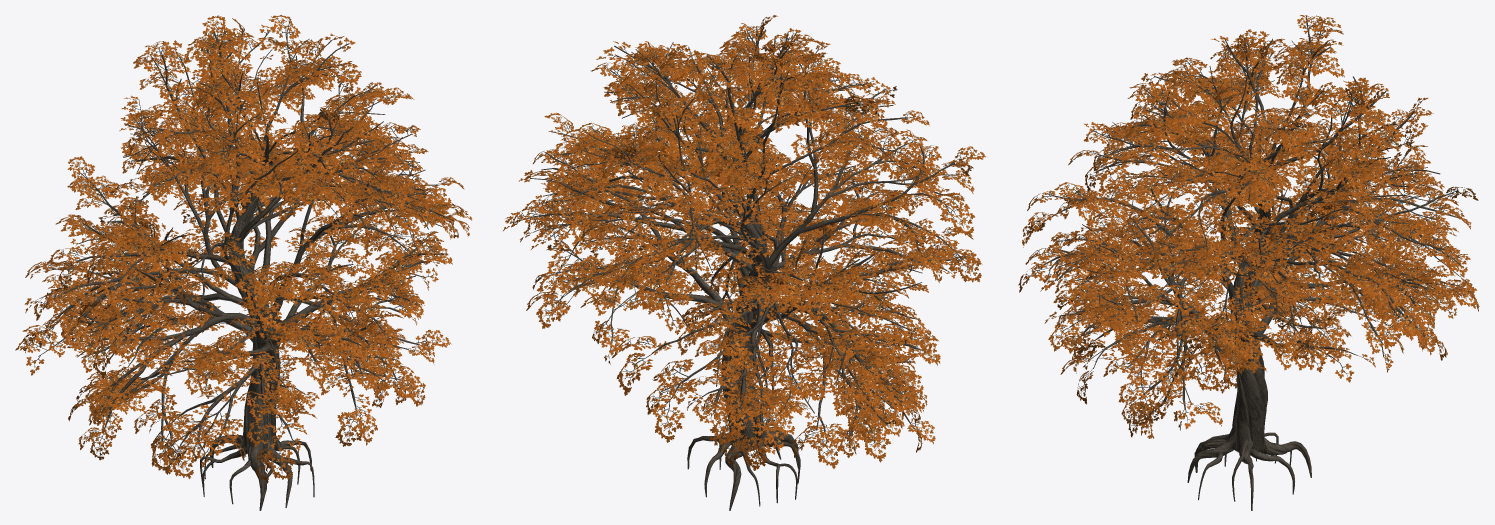
The model's file is Tree3-3-Leaves.fbx.
3 views of the same model, side by side, from view 1: azimuth 30°, elevation 25°; view 2: azimuth 150°, elevation 25°; view 3: azimuth 270°, elevation 25° (orthographic). The views are drawn at different scales.
Parts seen in each view (by area): view 1: Tree3-3-Leaves_LOD0; view 2: Tree3-3-Leaves_LOD0; view 3: Tree3-3-Leaves_LOD0.
Part boxes in pixels (x1,y1,x2,y2): Tree3-3-Leaves_LOD0: (15, 14, 471, 510); Tree3-3-Leaves_LOD0: (503, 15, 986, 510); Tree3-3-Leaves_LOD0: (1018, 15, 1479, 510).
Size of what is drawn, in the model's own units: 13.23 by 12.99 by 13.76.
